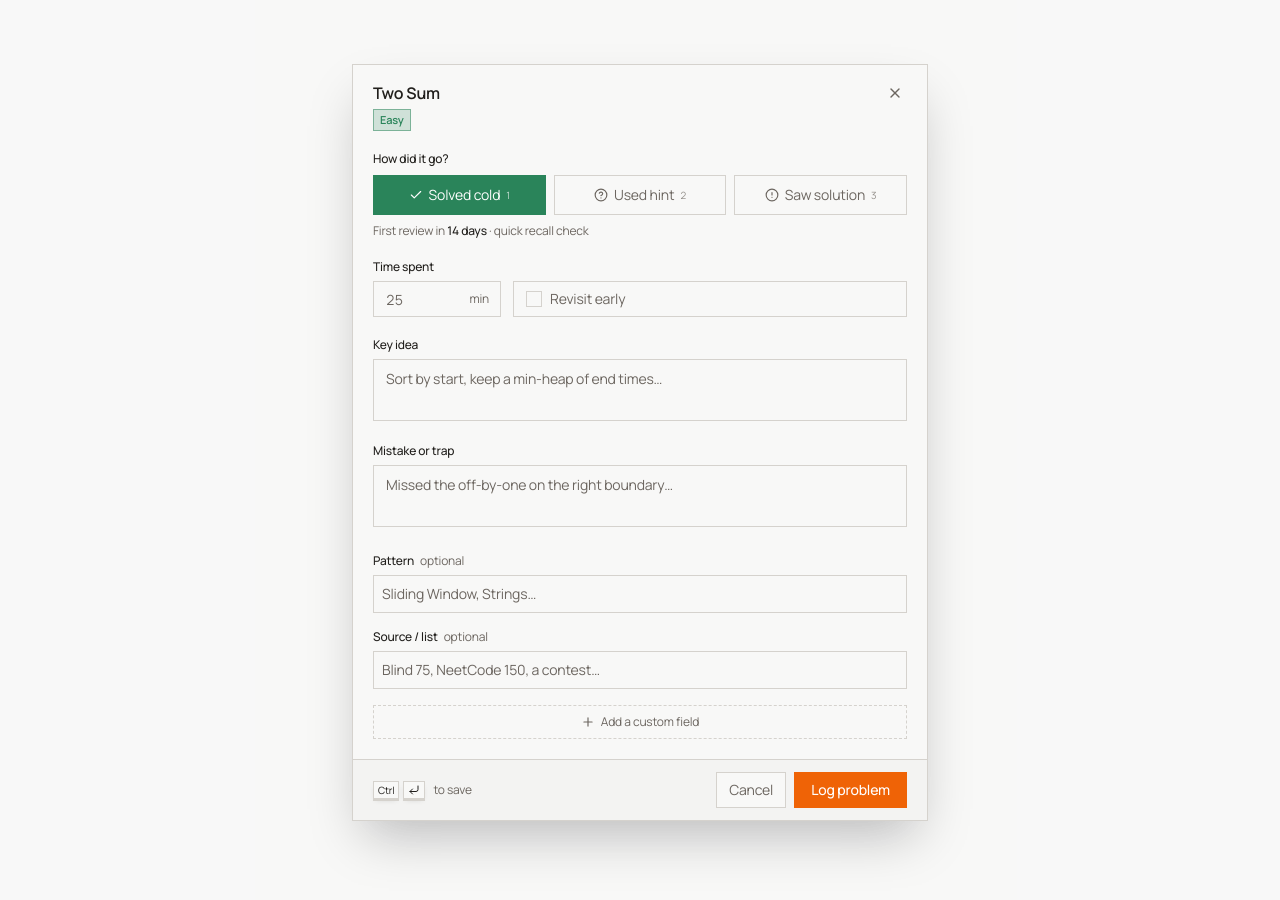
Test case: CommandBar › shows the review wait for the chosen outcome and flag
The width and height of the screenshot is (1280, 900).
Expected: the text "14 days" is shown, [447, 222, 487, 239]
Click the radio button labelled "Saw solution 3" at x=821, y=195, box [734, 175, 907, 215]
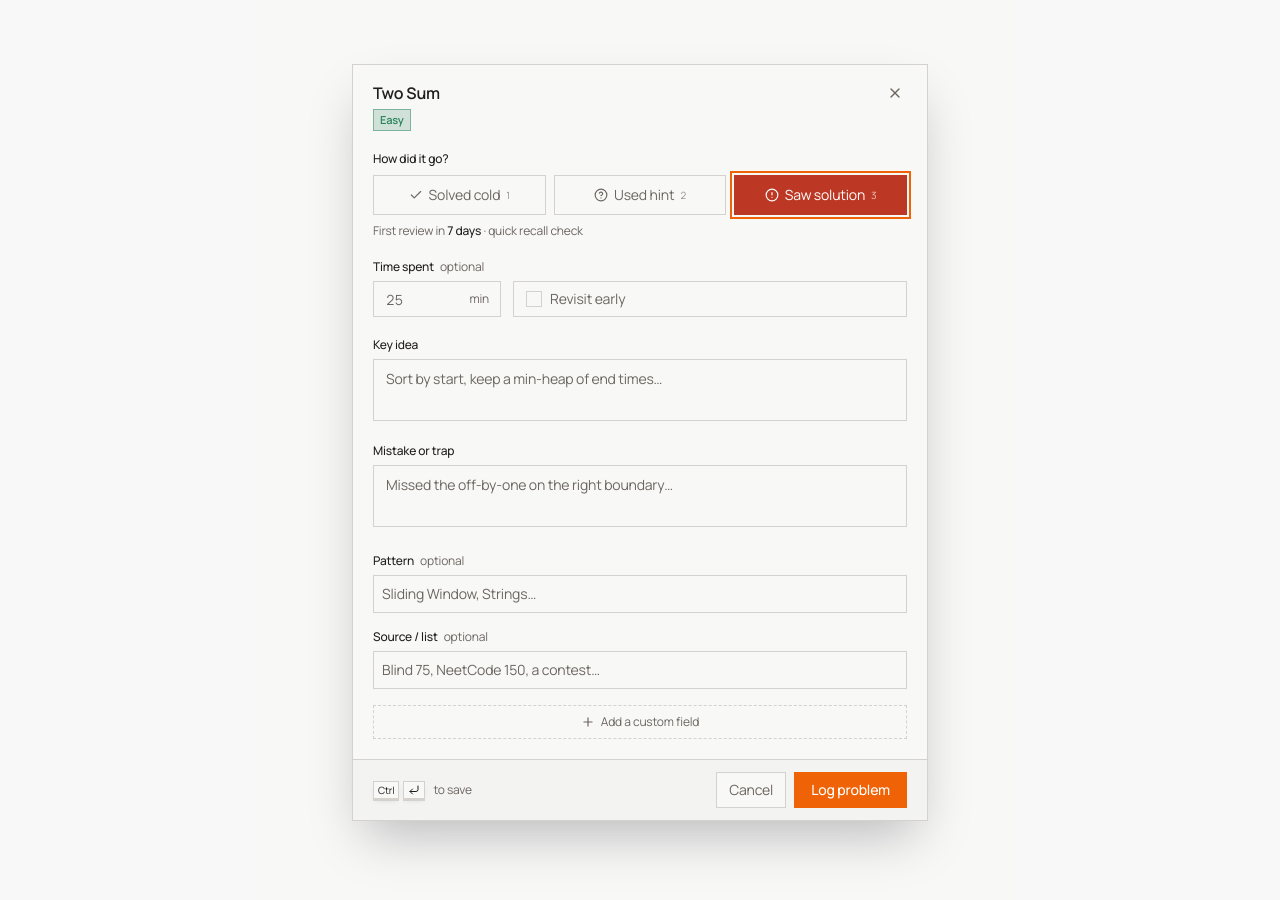
Result: the text "7 days" is shown at [447, 222, 481, 239]
Click the switch labelled "Revisit early" at x=588, y=298, box [513, 281, 907, 317]
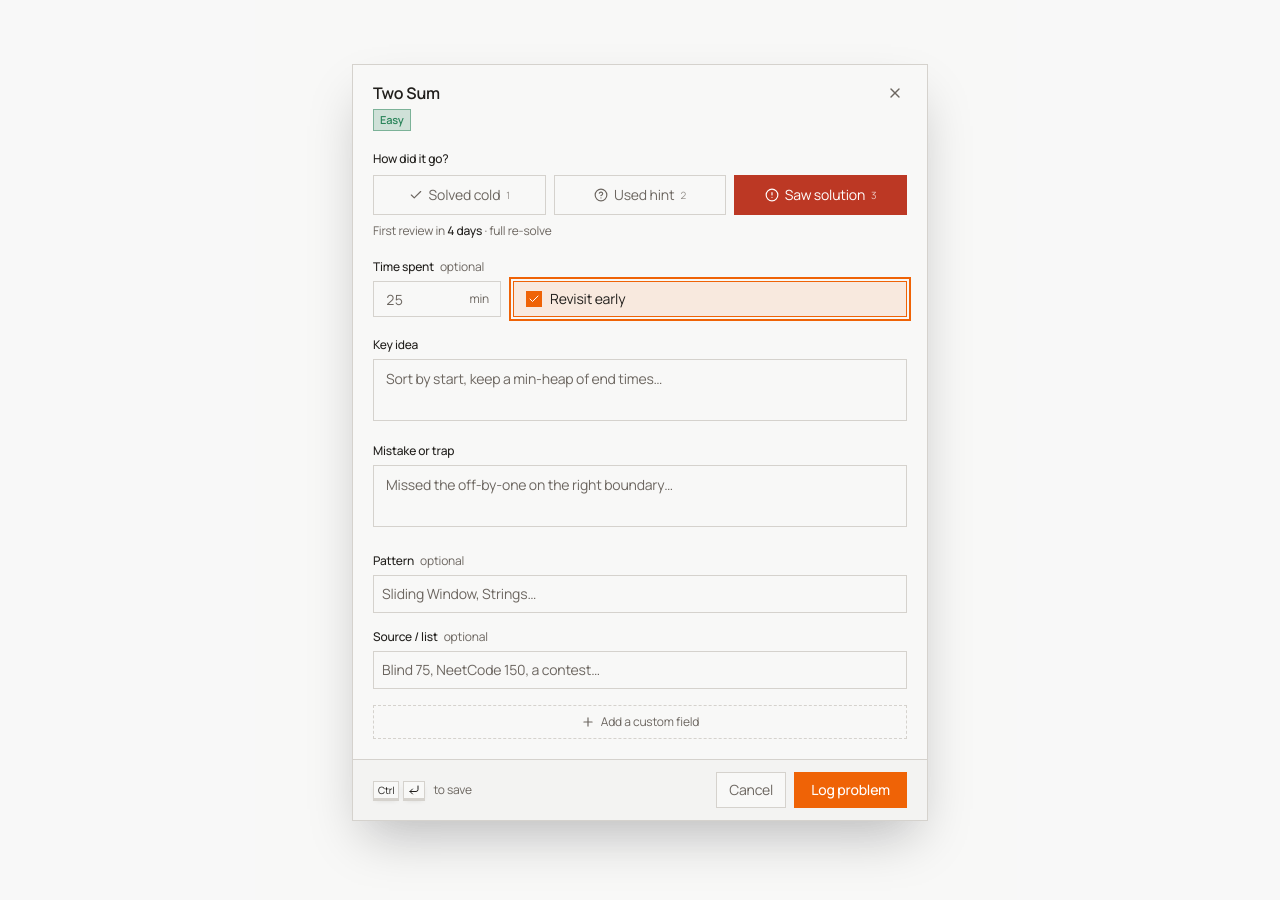
Result: the text "4 days" is shown at [447, 222, 482, 239]
